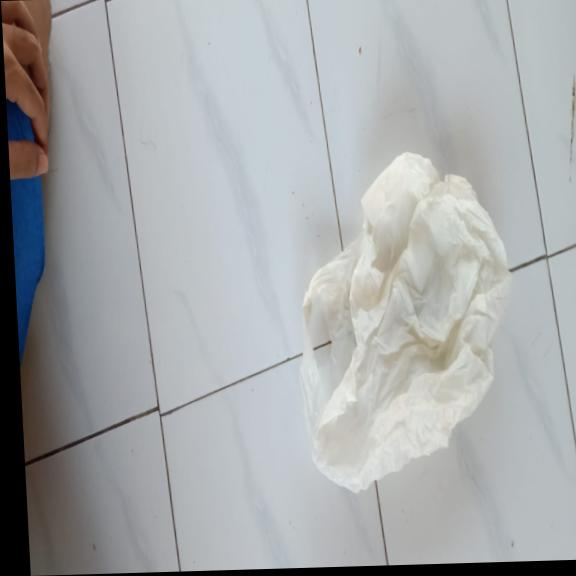Plastik: (285, 146, 521, 493)
